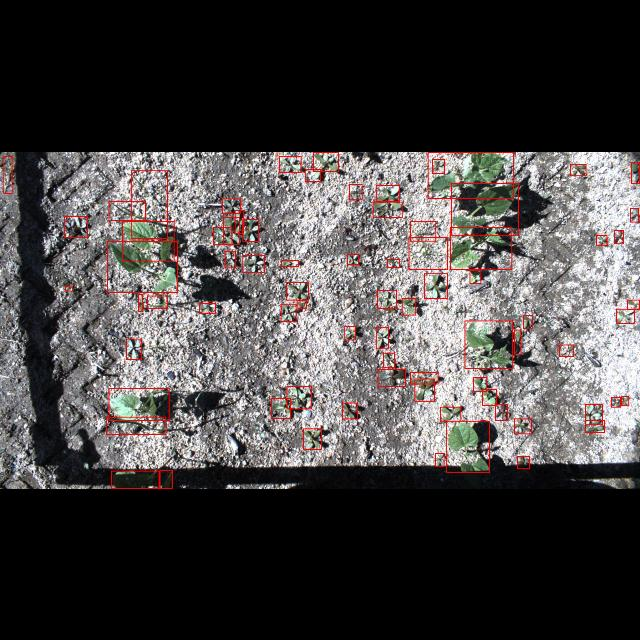crop: (428, 151, 514, 197), (107, 240, 177, 292), (452, 182, 518, 234), (450, 227, 512, 269), (465, 320, 513, 368), (446, 421, 489, 472), (122, 220, 174, 260), (109, 388, 169, 420), (112, 470, 158, 488)
weed: (132, 170, 168, 238), (408, 237, 448, 269), (106, 416, 166, 434), (109, 200, 145, 220), (424, 272, 448, 298), (286, 386, 312, 408), (410, 220, 436, 240), (64, 216, 88, 237), (378, 368, 406, 386), (372, 201, 402, 217), (224, 216, 240, 244), (414, 379, 434, 401), (314, 152, 338, 170), (271, 398, 291, 418), (286, 282, 308, 300), (242, 254, 264, 272), (243, 218, 259, 242), (376, 184, 399, 200), (303, 429, 321, 449), (279, 156, 301, 172), (378, 290, 397, 308), (214, 226, 232, 244), (126, 339, 142, 359), (586, 404, 602, 424), (410, 372, 438, 383), (4, 155, 12, 193), (514, 418, 532, 434), (616, 308, 634, 324), (280, 303, 296, 321), (440, 407, 460, 421), (342, 402, 358, 418), (222, 198, 240, 212), (376, 327, 388, 347), (147, 295, 167, 307), (402, 298, 416, 314), (482, 389, 496, 405), (160, 470, 172, 488), (586, 420, 604, 432), (234, 210, 243, 232), (473, 377, 487, 391), (514, 329, 522, 353), (350, 183, 362, 199), (570, 163, 586, 175), (224, 251, 236, 267), (496, 404, 508, 420), (560, 344, 574, 356), (344, 325, 356, 339), (433, 158, 445, 172), (306, 169, 320, 181), (631, 162, 639, 182), (199, 302, 215, 312), (517, 456, 529, 468), (384, 352, 394, 366), (614, 229, 624, 243), (627, 299, 639, 309), (470, 270, 480, 282), (387, 258, 399, 268), (524, 314, 532, 328), (631, 207, 639, 221), (348, 253, 358, 264), (597, 234, 607, 244), (436, 454, 444, 466), (282, 260, 298, 266), (612, 397, 620, 407), (138, 294, 142, 310), (298, 300, 306, 308), (622, 396, 628, 406), (66, 286, 72, 290)
